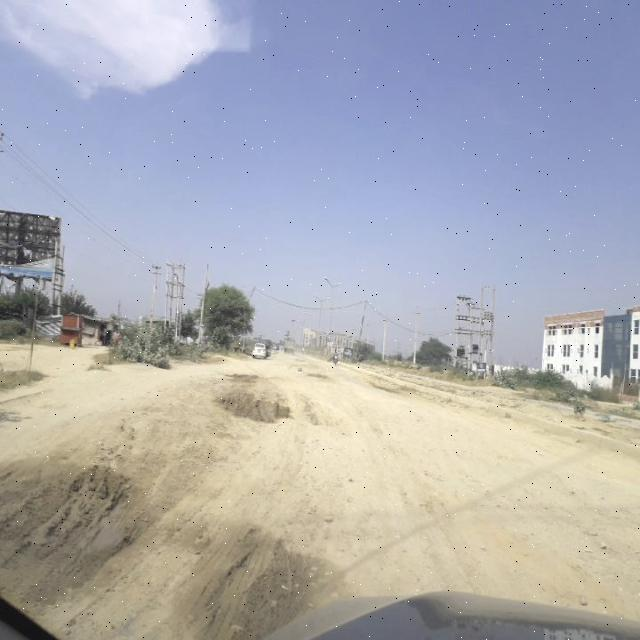D40: (2, 447, 154, 596), (193, 524, 326, 639), (209, 377, 296, 431)
